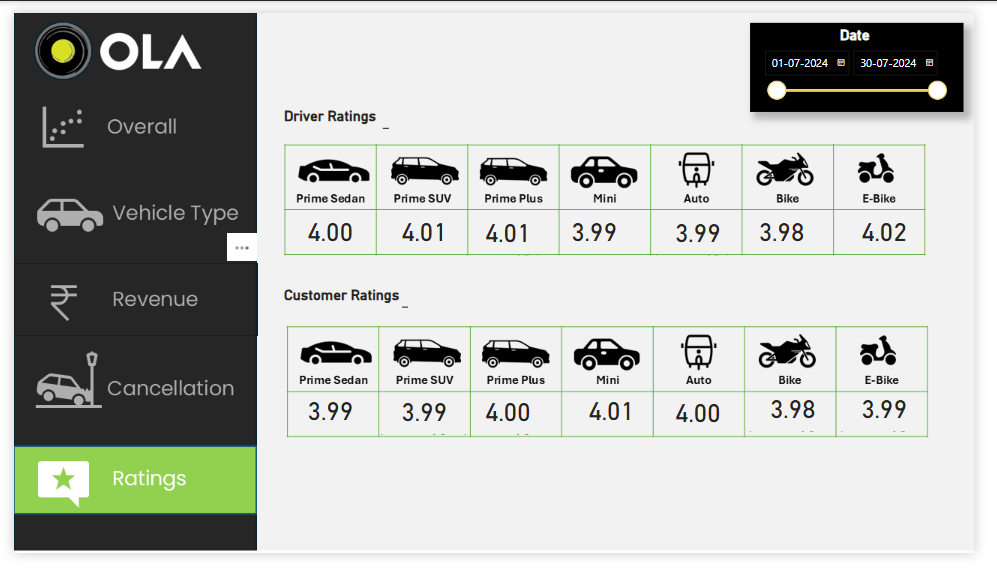

The page's visual inventory and layout, read from the dashboard file:
{"tool":"powerbi","page":{"name":"Page 5","canvas":[1280,720],"ordinal":4},"visuals":[{"type":"actionButton","box":[0,216,325.2,95.7],"z":0},{"type":"actionButton","box":[0,441.7,325.2,95.7],"z":1000},{"type":"actionButton","box":[0,333.7,325.2,95.7],"z":2000},{"type":"actionButton","box":[0,111.7,325.2,95.7],"z":3000},{"type":"card","fields":{"Values":["Avg(July (2).Driver_Ratings)"]},"box":[354,273,137,53],"z":4000},{"type":"card","fields":{"Values":["Avg(July (2).Customer_Rating)"]},"box":[353.8,513.8,137.5,52.5],"z":4001},{"type":"card","fields":{"Values":["Avg(July (2).Driver_Ratings)"]},"box":[590,274.3,137.1,52.9],"z":4002},{"type":"card","fields":{"Values":["Avg(July (2).Driver_Ratings)"]},"box":[705.7,272.9,137.1,52.9],"z":4003},{"type":"card","fields":{"Values":["Avg(July (2).Driver_Ratings)"]},"box":[842.9,274.3,137.1,52.9],"z":4004},{"type":"card","fields":{"Values":["Avg(July (2).Driver_Ratings)"]},"box":[954.3,272.9,137.1,52.9],"z":4005},{"type":"card","fields":{"Values":["Avg(July (2).Driver_Ratings)"]},"box":[1091.4,272.9,137.1,52.9],"z":4006},{"type":"card","fields":{"Values":["Avg(July (2).Driver_Ratings)"]},"box":[478.6,272.9,137.1,52.9],"z":4007},{"type":"card","fields":{"Values":["Avg(July (2).Customer_Rating)"]},"box":[1091.4,510,137.1,52.9],"z":4009},{"type":"card","fields":{"Values":["Avg(July (2).Customer_Rating)"]},"box":[970,510,137.1,52.9],"z":4010},{"type":"card","fields":{"Values":["Avg(July (2).Customer_Rating)"]},"box":[843.8,515,137.5,52.5],"z":4011},{"type":"card","fields":{"Values":["Avg(July (2).Customer_Rating)"]},"box":[727.5,512.5,136.2,52.5],"z":4012},{"type":"card","fields":{"Values":["Avg(July (2).Customer_Rating)"]},"box":[590,513.8,137.5,53.8],"z":4013},{"type":"card","fields":{"Values":["Avg(July (2).Customer_Rating)"]},"box":[478.8,512.5,137.5,53.8],"z":4014},{"type":"slicer","title":"Date","fields":{"Values":["July (2).Date"]},"box":[981.4,12.9,284.3,118.6],"z":4015},{"type":"textbox","title":"Driver Ratings","box":[354.3,127.1,150,32.9],"z":4016},{"type":"textbox","title":"Customer Ratings","box":[355.7,364.3,175.7,32.9],"z":4017}]}

Visuals, with their boxes on the page's 1280x720 design canvas (x1, y1, x2, y2). These are canvas units, not pixel positions in the 997x586 screenshot, which may show the page scaled, cropped or inside an application window:
actionButton: [0,216,325,312]
actionButton: [0,442,325,537]
actionButton: [0,334,325,429]
actionButton: [0,112,325,207]
card - Avg(July (2).Driver_Ratings): [354,273,491,326]
card - Avg(July (2).Customer_Rating): [354,514,491,566]
card - Avg(July (2).Driver_Ratings): [590,274,727,327]
card - Avg(July (2).Driver_Ratings): [706,273,843,326]
card - Avg(July (2).Driver_Ratings): [843,274,980,327]
card - Avg(July (2).Driver_Ratings): [954,273,1091,326]
card - Avg(July (2).Driver_Ratings): [1091,273,1228,326]
card - Avg(July (2).Driver_Ratings): [479,273,616,326]
card - Avg(July (2).Customer_Rating): [1091,510,1228,563]
card - Avg(July (2).Customer_Rating): [970,510,1107,563]
card - Avg(July (2).Customer_Rating): [844,515,981,568]
card - Avg(July (2).Customer_Rating): [728,512,864,565]
card - Avg(July (2).Customer_Rating): [590,514,728,568]
card - Avg(July (2).Customer_Rating): [479,512,616,566]
"Date" slicer: [981,13,1266,132]
"Driver Ratings" textbox: [354,127,504,160]
"Customer Ratings" textbox: [356,364,531,397]
